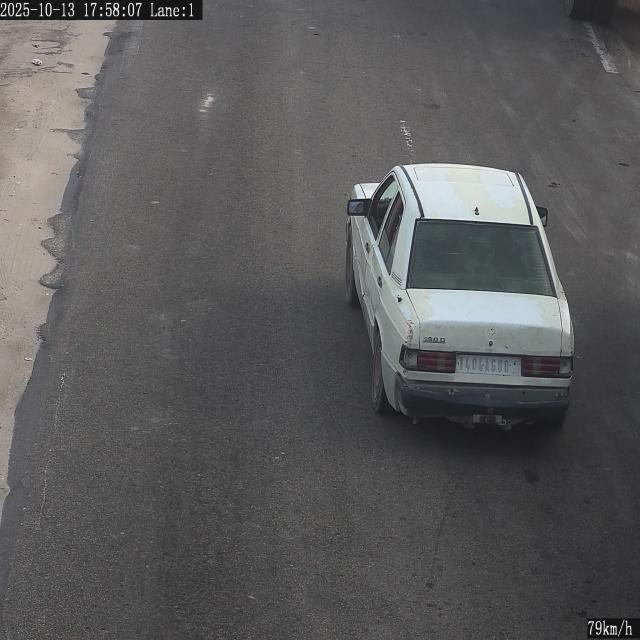BUS: (457, 354, 519, 375)
